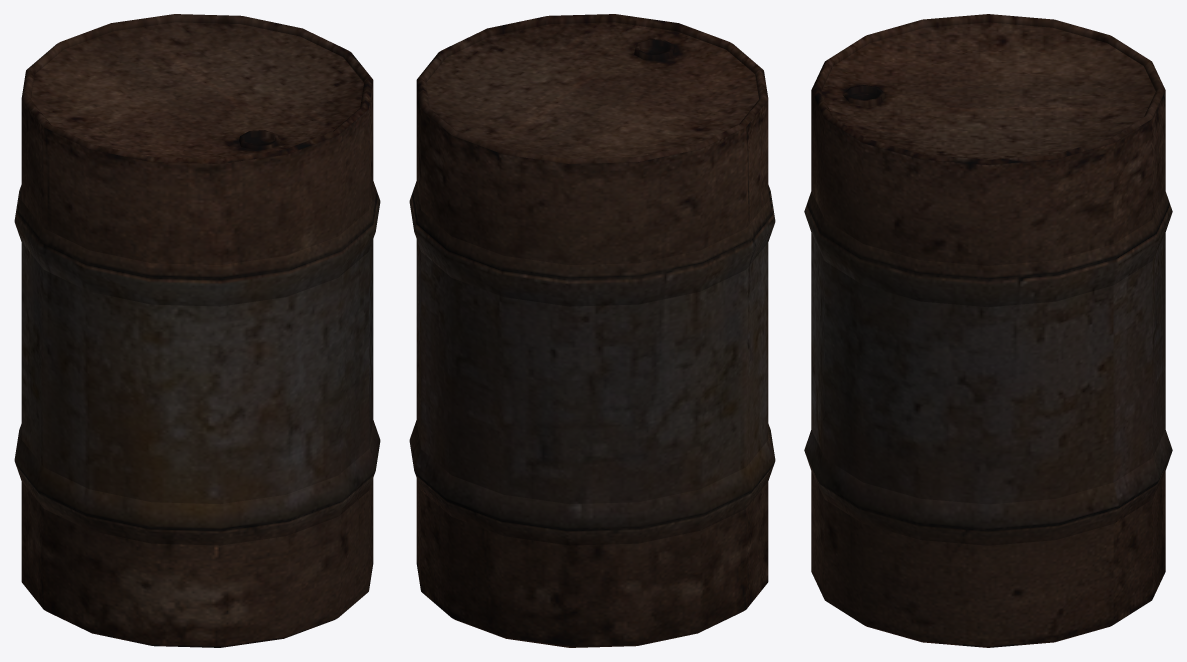
File: metal_barrel_2.obj
The picture shows the model from 3 angles, left to right: view 1: azimuth 30°, elevation 25°; view 2: azimuth 150°, elevation 25°; view 3: azimuth 270°, elevation 25°; orthographic projection.
Parts seen in each view (by area): view 1: metal_barrel_2; view 2: metal_barrel_2; view 3: metal_barrel_2.
Boxes of the visible parts, x1=… form: metal_barrel_2: x1=14, y1=14, x2=380, y2=647; metal_barrel_2: x1=409, y1=14, x2=775, y2=647; metal_barrel_2: x1=804, y1=14, x2=1172, y2=647.
Size of the model in its own units: 0.7488 by 1.09 by 0.7488.
